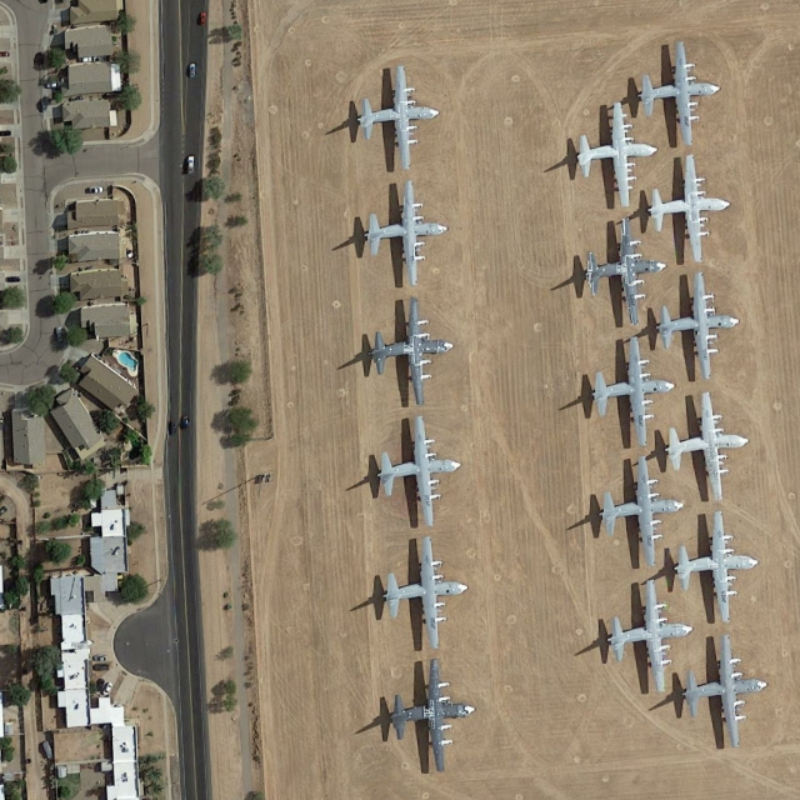A2: (371, 409, 476, 528), (599, 570, 699, 694), (354, 176, 457, 294), (350, 53, 450, 174), (580, 333, 681, 450), (376, 534, 476, 650), (679, 632, 770, 758), (569, 89, 663, 210), (659, 392, 758, 503), (593, 454, 687, 570), (653, 271, 750, 383), (582, 206, 669, 330), (389, 655, 476, 778), (674, 511, 767, 626), (636, 28, 720, 153), (365, 289, 456, 400), (650, 150, 735, 266)
